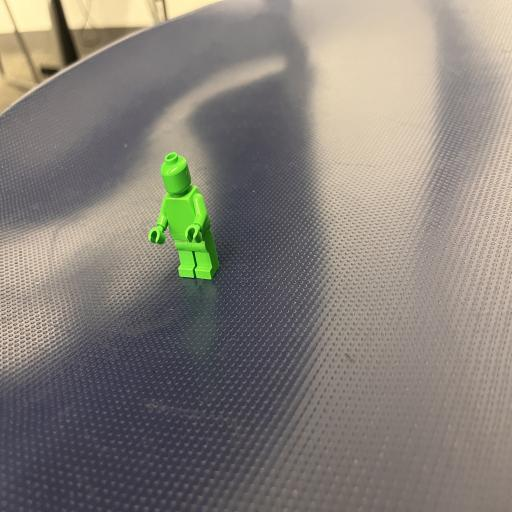Lego-Minifig: (148, 153, 218, 279)
